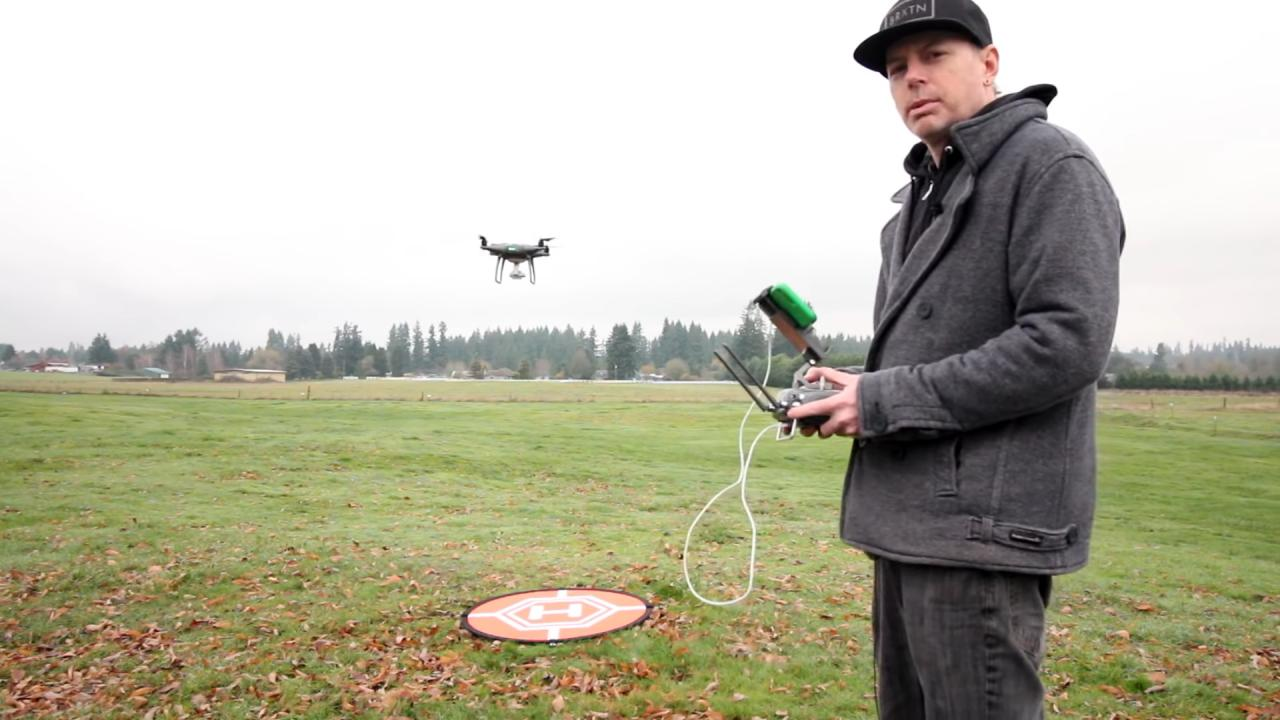Drone: (467, 226, 567, 291)
